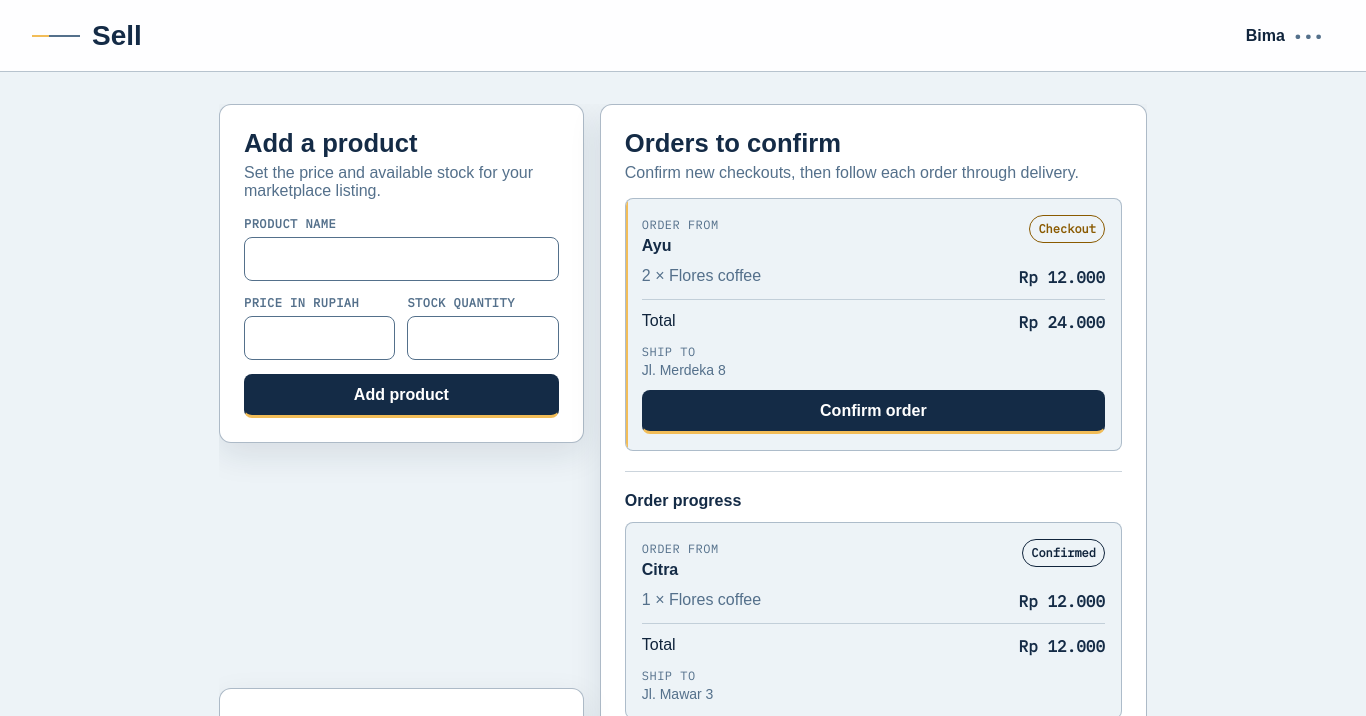
Test: Seller › focuses the first invalid product field and explains how to correct it
This screenshot has width=1366, height=716.
Click the button "Add product". click: coordinates (401, 396)
box: [244, 374, 559, 418]
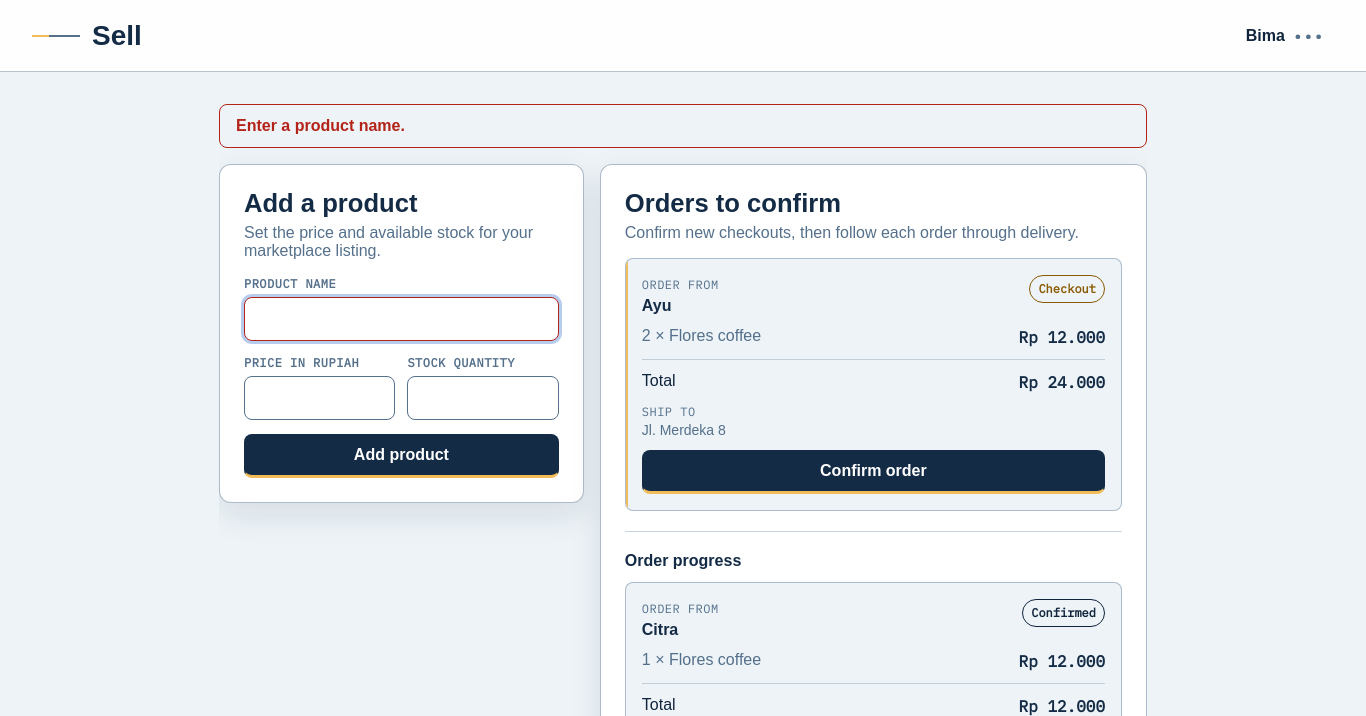
Now the message reads "Enter a product name.", box [236, 117, 405, 134]
Type "Flores cocoa" into the field labelled "Product name". click: coordinates (401, 319)
box: [244, 297, 559, 341]
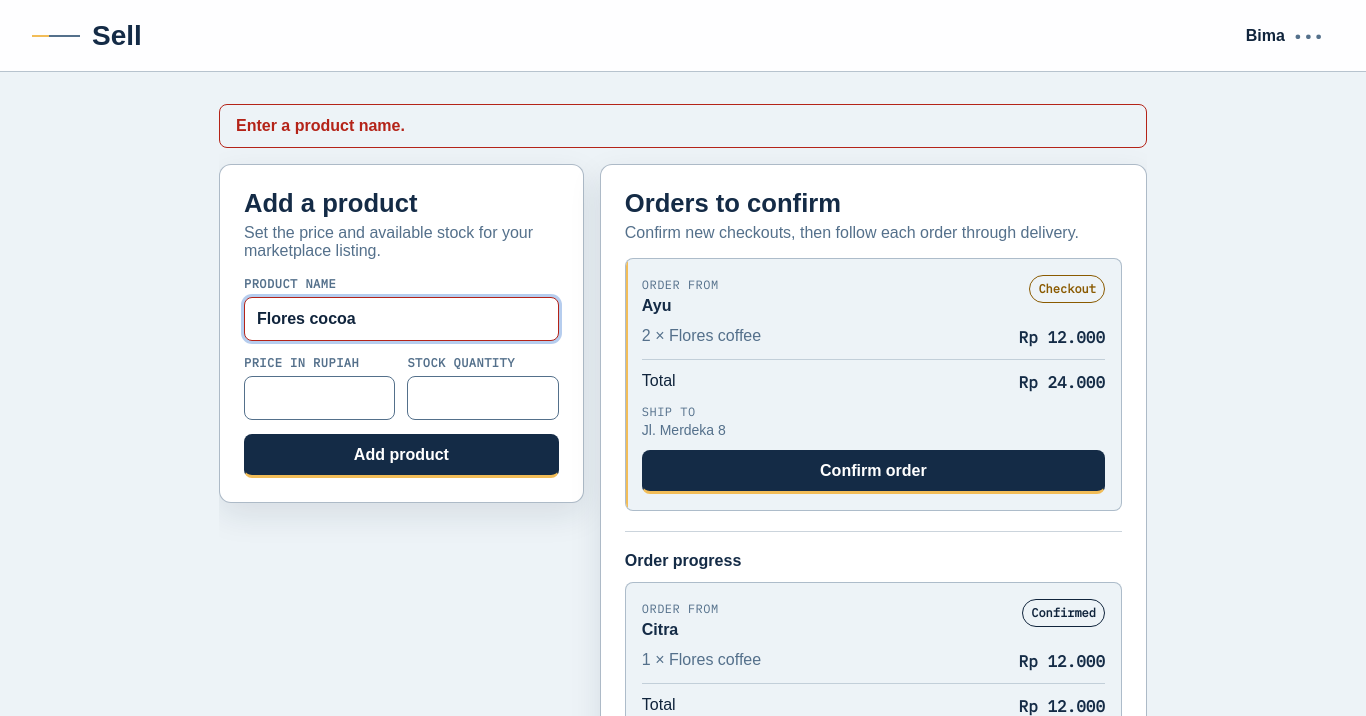
Click the button "Add product". click: coordinates (401, 456)
box: [244, 434, 559, 478]
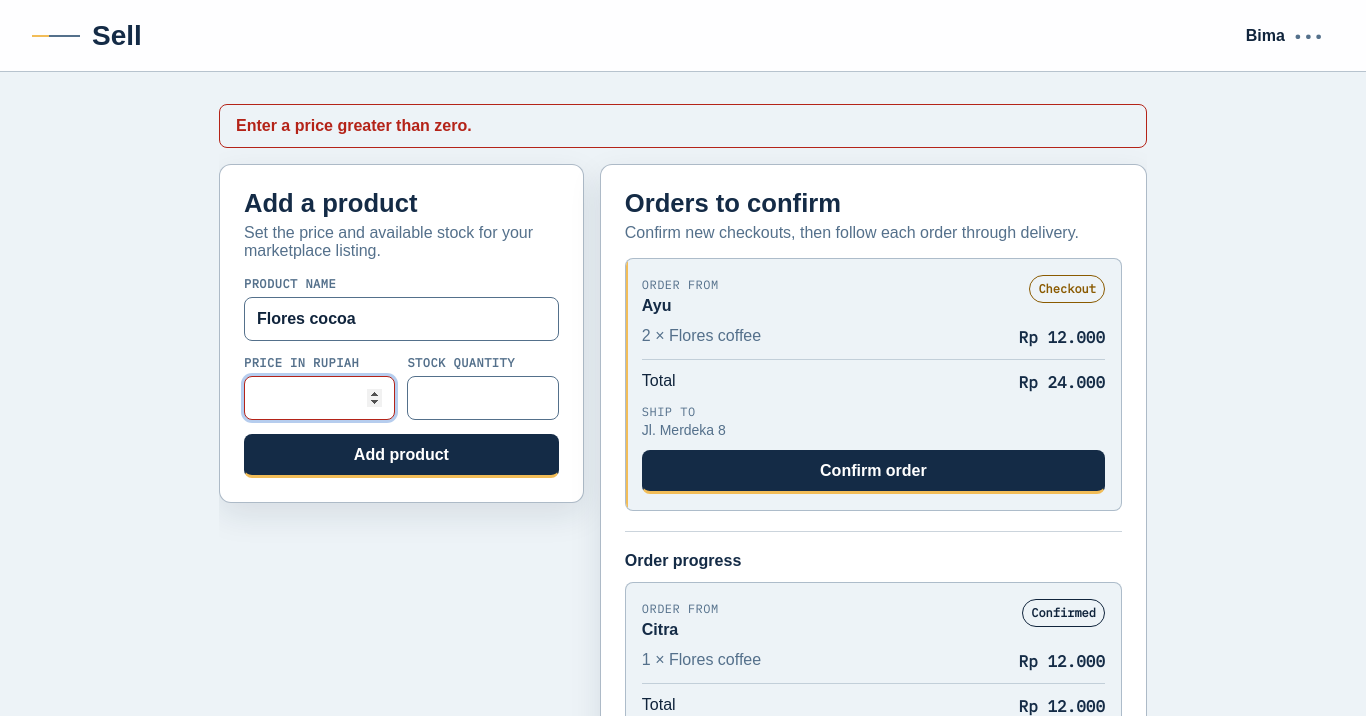
Now the message reads "Enter a price greater than zero.", box [236, 117, 472, 134]
